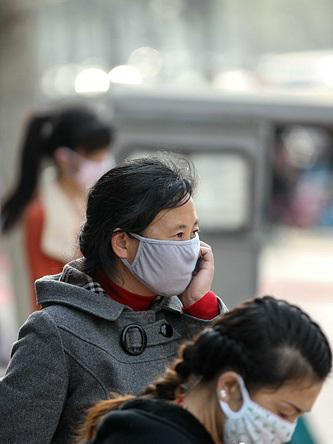OK: (227, 368, 315, 444), (127, 215, 205, 293), (65, 148, 114, 195)
